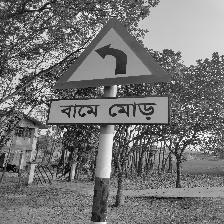Left-Turn: (46, 18, 176, 129)
